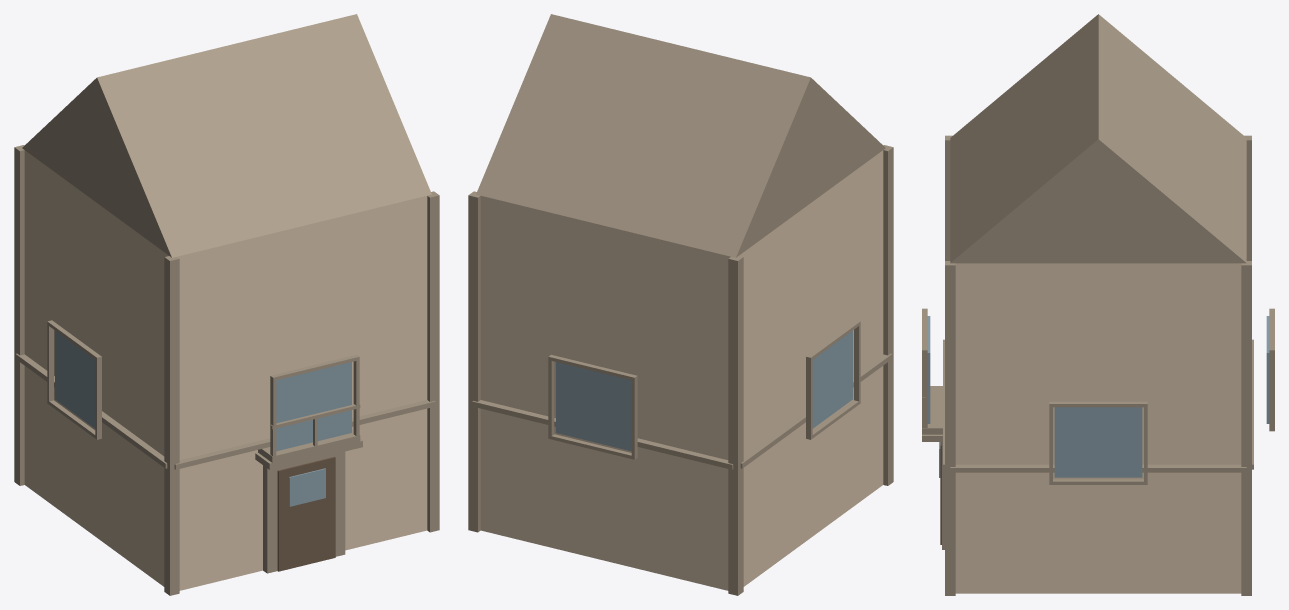
The model's file is lot_1x1_gable.glb.
3 renders of one model, left to right at view 1: azimuth 30°, elevation 25°; view 2: azimuth 150°, elevation 25°; view 3: azimuth 270°, elevation 25°, orthographic.
Parts seen in each view (by area): view 1: lot_1x1_gable; view 2: lot_1x1_gable; view 3: lot_1x1_gable.
Part boxes in pixels (x1=…): lot_1x1_gable: x1=14, y1=14, x2=439, y2=595; lot_1x1_gable: x1=468, y1=14, x2=893, y2=595; lot_1x1_gable: x1=922, y1=14, x2=1274, y2=595.
Size of the model in its own units: 7.74 by 11 by 7.74.
